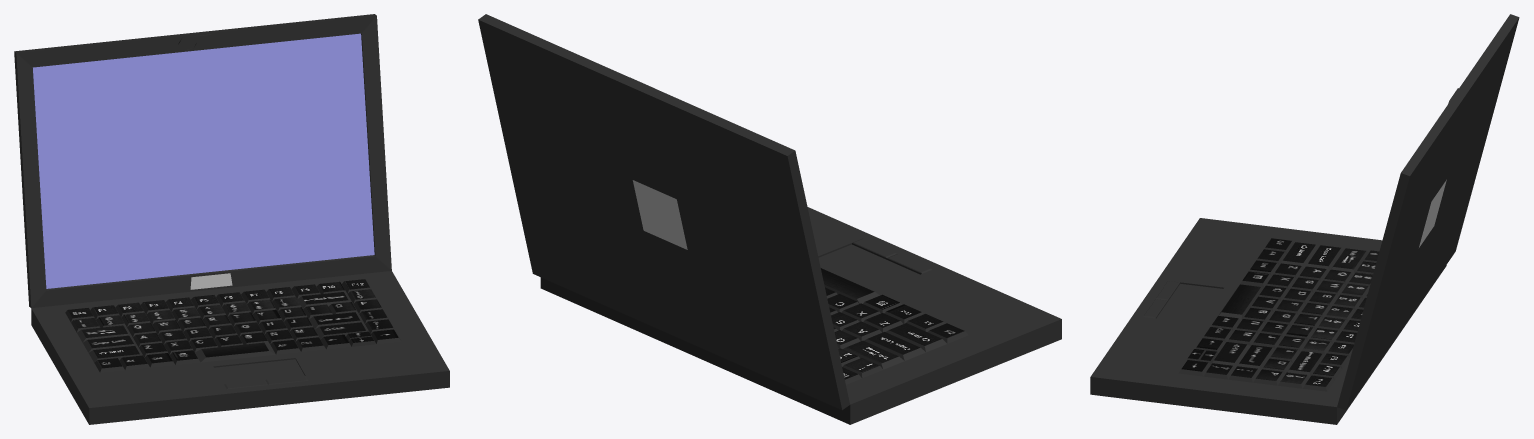
File: Laptop.fbx
3 renders of one model, left to right at view 1: azimuth 30°, elevation 25°; view 2: azimuth 150°, elevation 25°; view 3: azimuth 270°, elevation 25°, orthographic. The views are drawn at different scales.
Visible parts, largest first — view 1: Laptop; view 2: Laptop; view 3: Laptop.
Part boxes in pixels (left/top/right/bottom): Laptop: left=14, top=14, right=449, bottom=424; Laptop: left=478, top=14, right=1061, bottom=424; Laptop: left=1090, top=14, right=1519, bottom=424.
Bounding box in the file's own units: 98.61 × 60.25 × 90.17.
